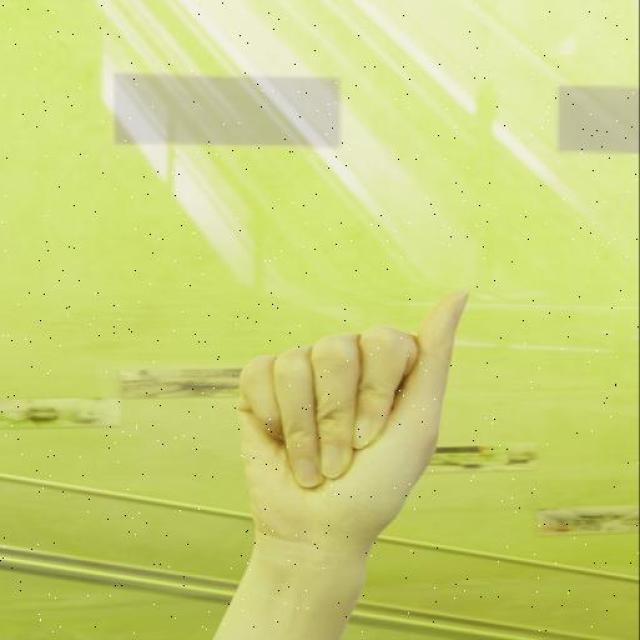A: (232, 283, 478, 556)
